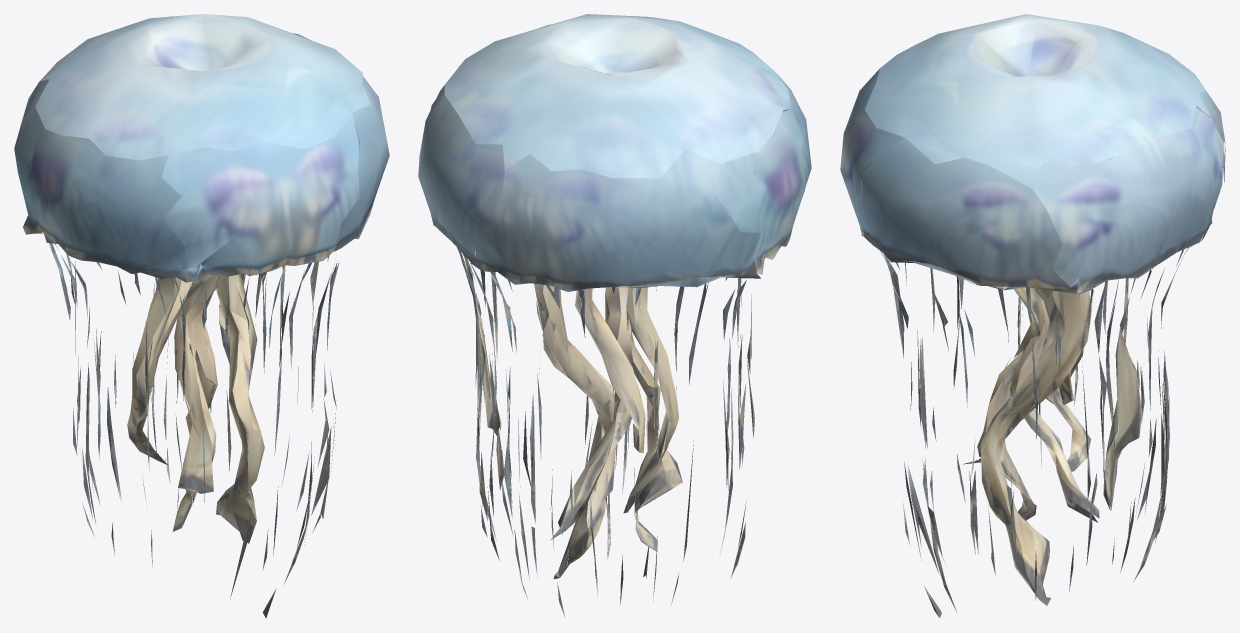
The model's file is jelly.glb.
3 renders of one model, left to right at view 1: azimuth 30°, elevation 25°; view 2: azimuth 150°, elevation 25°; view 3: azimuth 270°, elevation 25°, orthographic. The views are drawn at different scales.
Visible parts, largest first — view 1: Lux3D jelly; view 2: Lux3D jelly; view 3: Lux3D jelly.
Boxes of the visible parts, <box> form: Lux3D jelly: <box>14,14,389,618</box>; Lux3D jelly: <box>418,14,811,616</box>; Lux3D jelly: <box>840,14,1225,617</box>.
Bounding box in the file's own units: 0.5541 × 0.891 × 0.5514.
1 material, 1 textured.
